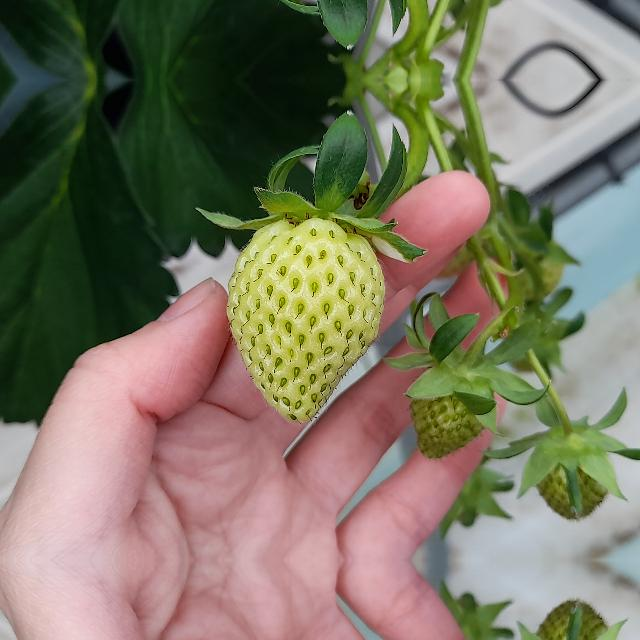Health_25: (226, 218, 384, 422), (412, 361, 492, 462), (533, 431, 611, 519), (533, 601, 611, 640)
